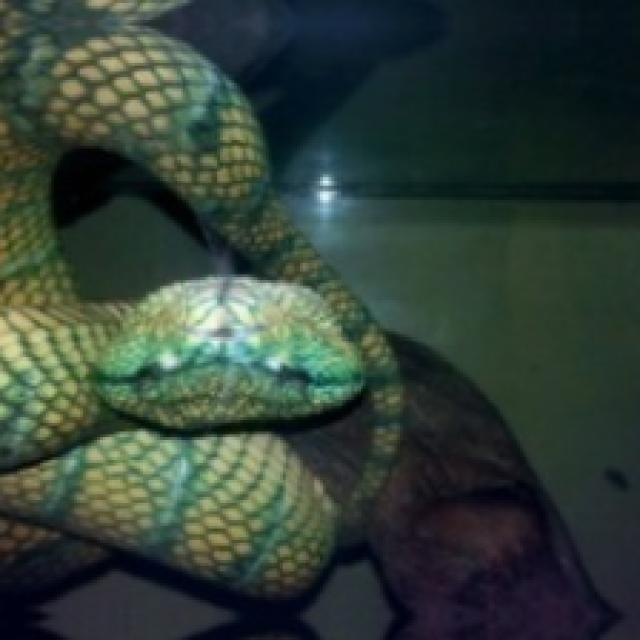north ph temple pitviper: (0, 0, 614, 637)
